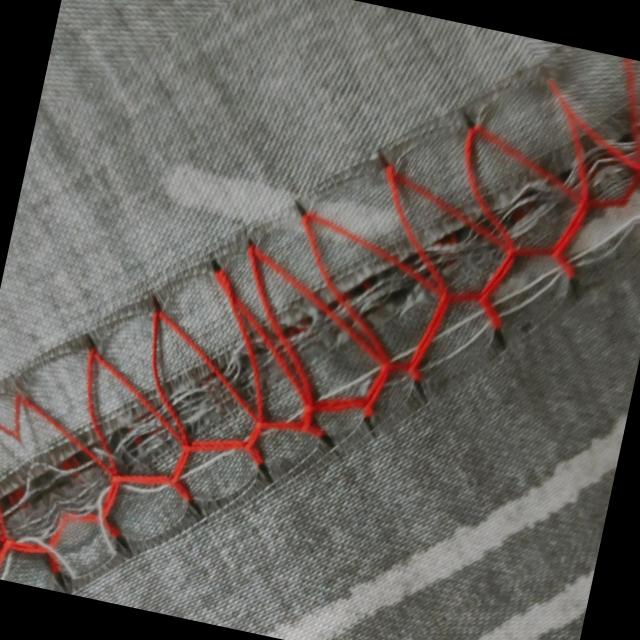gray stitch: (0, 148, 341, 628), (301, 12, 640, 489)
